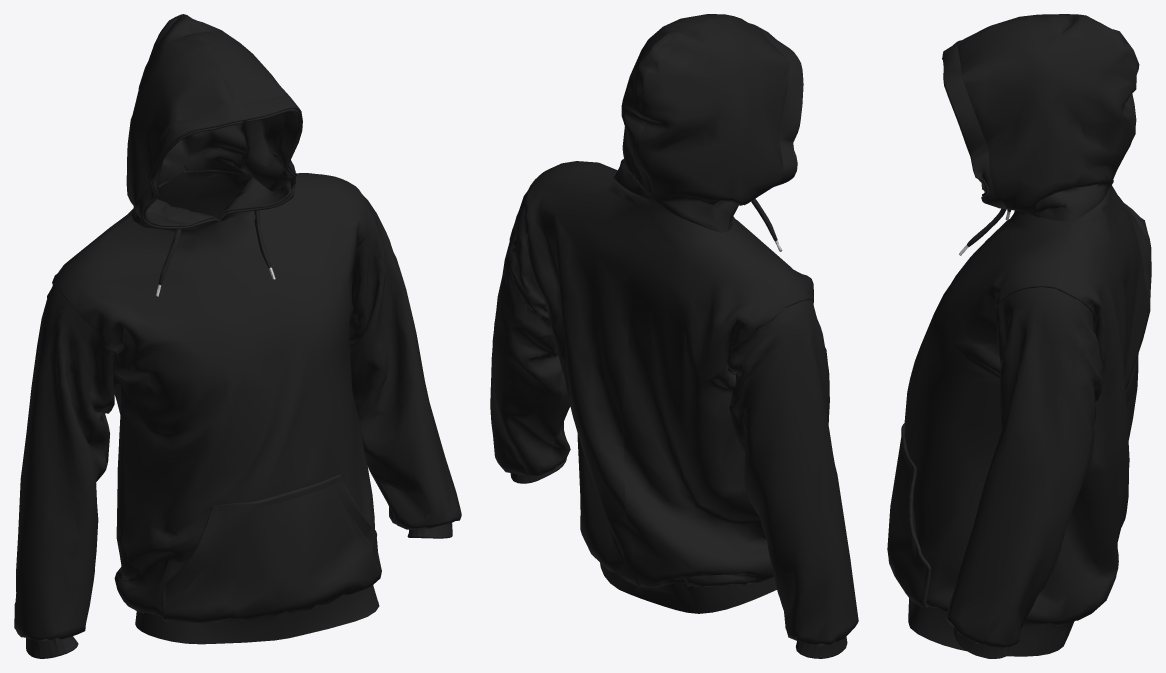
File: urban-hoodie.glb
3 renders of one model, left to right at view 1: azimuth 30°, elevation 25°; view 2: azimuth 150°, elevation 25°; view 3: azimuth 270°, elevation 25°, orthographic. The views are drawn at different scales.
Visible parts, largest first — view 1: urban-hoodie_surface_1; view 2: urban-hoodie_surface_1; view 3: urban-hoodie_surface_1.
Part boxes in pixels (x1,y1,x2,y2): urban-hoodie_surface_1: (14, 14, 461, 658); urban-hoodie_surface_1: (490, 14, 858, 658); urban-hoodie_surface_1: (887, 14, 1151, 658).
Bounding box in the file's own units: 1.74 × 2.5 × 0.997.
Materials: 2 (2 with a texture image).
